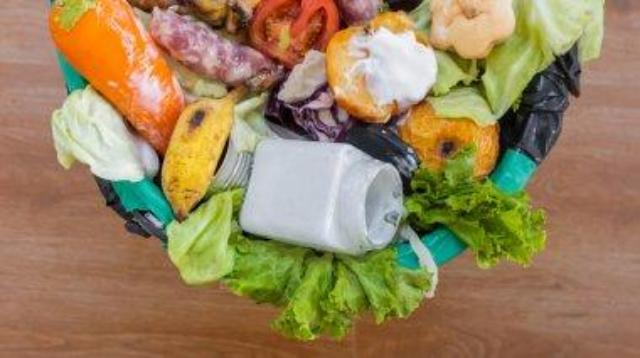Garbage: (45, 0, 580, 276)
Metal: (207, 93, 274, 194)
Plastic_bottle: (240, 139, 404, 256)
contaminated_waste: (240, 140, 404, 256), (207, 143, 258, 193)
